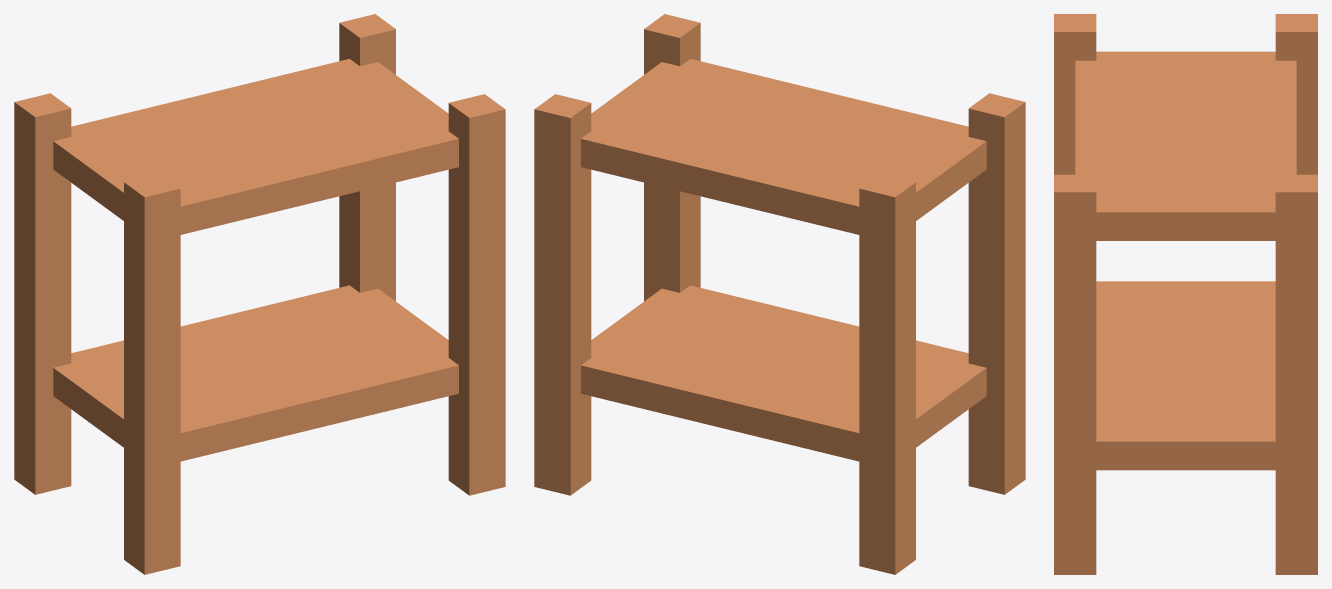
File: bookcaseOpenLow.fbx
The picture shows the model from 3 angles, left to right: view 1: azimuth 30°, elevation 25°; view 2: azimuth 150°, elevation 25°; view 3: azimuth 270°, elevation 25°; orthographic projection.
Parts seen in each view (by area): view 1: bookcaseOpenLow; view 2: bookcaseOpenLow; view 3: bookcaseOpenLow.
Part boxes in pixels (x1=…): bookcaseOpenLow: x1=14, y1=14, x2=505, y2=574; bookcaseOpenLow: x1=534, y1=14, x2=1025, y2=574; bookcaseOpenLow: x1=1054, y1=14, x2=1317, y2=574.
Size of the model in its own units: 4 by 4 by 2.5.
